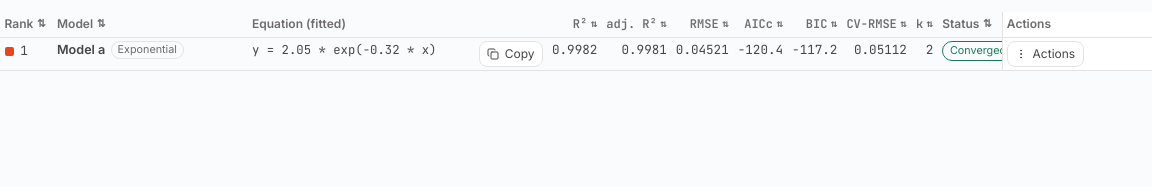
Scenario: RankingTable › keeps the full action names for screen readers in the row menu
Click the button with aria-label "Row actions for Model a": x=1045, y=54 [1006,41,1083,67]
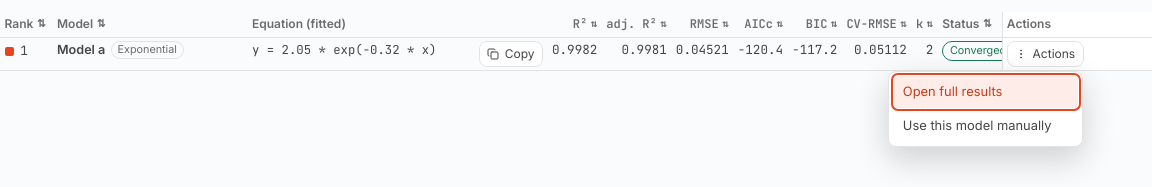
Expected: the menu item "Open full results" is shown, [894,76,1078,108]
Expected: the menu item "Use this model manually" is shown, [894,110,1078,141]
